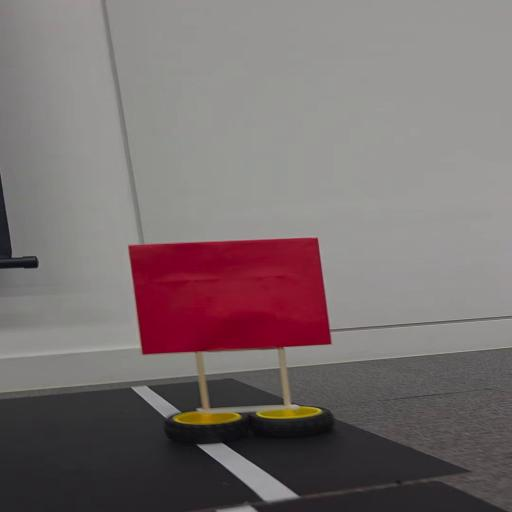Sign_A: (122, 235, 357, 440)
